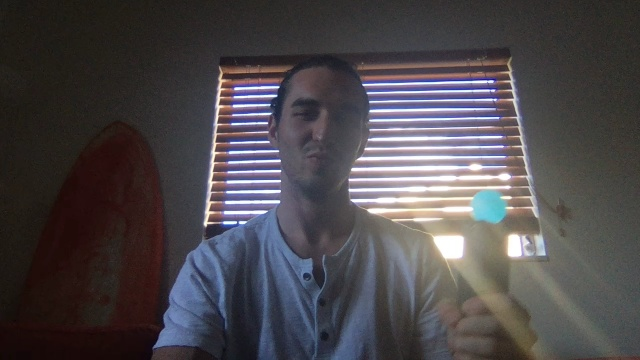wand: (469, 191, 507, 223)
